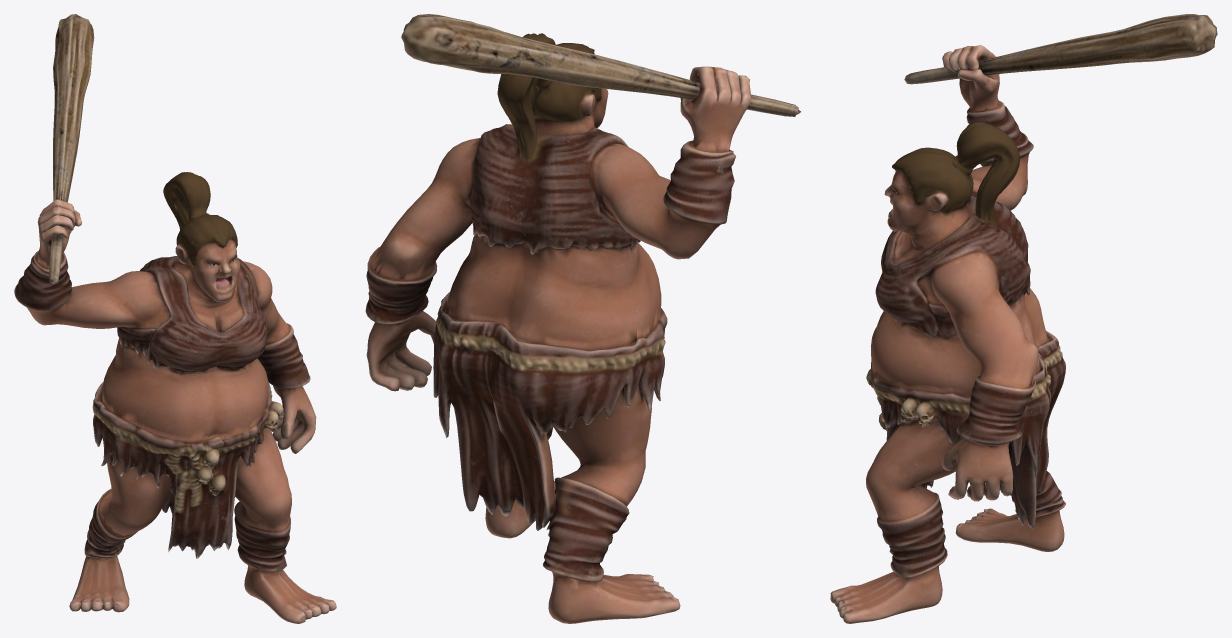
Rendered from MZ4250 - Hill Giant (Female).glb.
The picture shows the model from 3 angles, left to right: view 1: azimuth 30°, elevation 25°; view 2: azimuth 150°, elevation 25°; view 3: azimuth 270°, elevation 25°; orthographic projection. The views are drawn at different scales.
Visible parts, largest first — view 1: gphillgiant01.001; view 2: gphillgiant01.001; view 3: gphillgiant01.001.
Boxes of the visible parts, <box> form: gphillgiant01.001: <box>14,14,336,623</box>; gphillgiant01.001: <box>365,14,800,623</box>; gphillgiant01.001: <box>830,14,1217,623</box>.
Bounding box in the file's own units: 0.9041 × 1.49 × 0.9392.
1 material, 1 textured.
